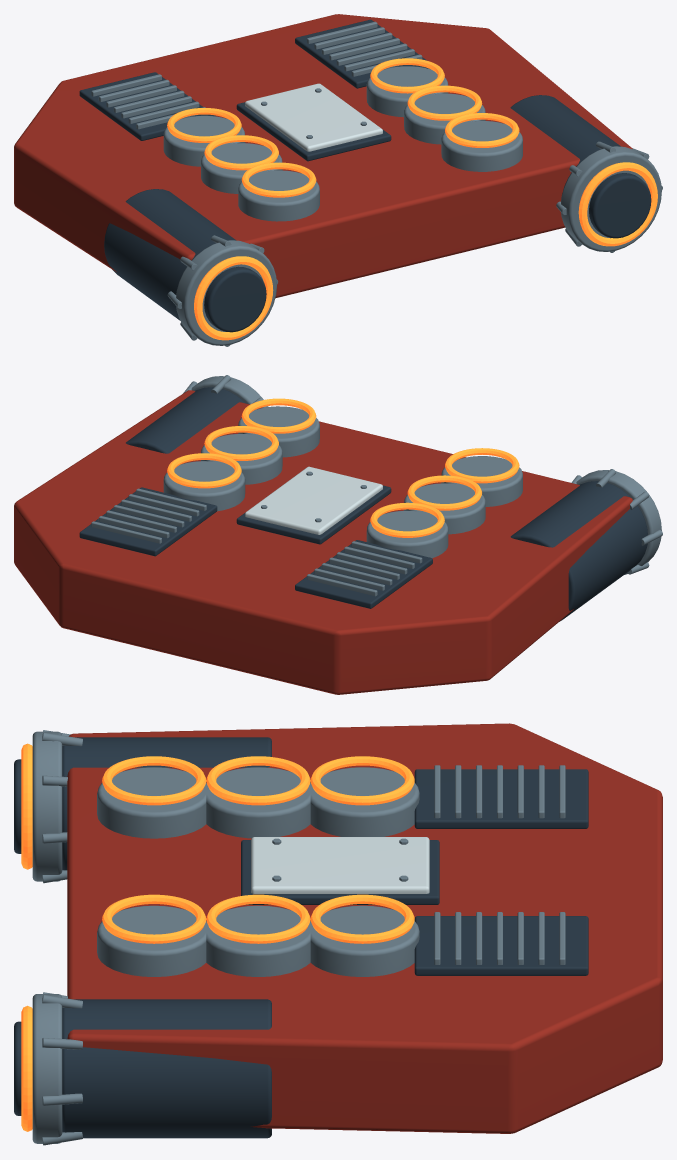
The model's file is MineTender.fbx.
3 renders of one model, top to bottom at view 1: azimuth 30°, elevation 25°; view 2: azimuth 150°, elevation 25°; view 3: azimuth 270°, elevation 25°, orthographic. The views are drawn at different scales.
Parts seen in each view (by area): view 1: Mine tender deck, Engine pressure vessel.004, Service panel.002, Exhaust rim.005, Exhaust rim.004, Dark exhaust throat.004, Dark exhaust throat.005, Engine pressure vessel.005, Mine dispenser, Mine dispenser.003, Mine dispenser.005, Mine dispenser.002 (+23 smaller); view 2: Mine tender deck, Engine pressure vessel.004, Service panel.002, Engine pressure vessel.005, Radiator well.001, Radiator well, Mine dispenser.005, Mine dispenser.002, Mine dispenser, Mine dispenser.003, Mine dispenser.004, Mine dispenser.001 (+23 smaller); view 3: Mine tender deck, Engine pressure vessel.005, Service panel.002, Radiator well.001, Radiator well, Mine dispenser.003, Mine dispenser, Engine pressure vessel.004, Mine dispenser.005, Mine dispenser.002, Mine dispenser.004, Mine dispenser.001 (+13 smaller).
Part boxes in pixels (<box>): Mine tender deck: <box>14,14,632,298</box>; Engine pressure vessel.004: <box>104,189,236,320</box>; Service panel.002: <box>245,83,382,151</box>; Exhaust rim.005: <box>561,146,661,251</box>; Exhaust rim.004: <box>176,240,276,345</box>; Dark exhaust throat.004: <box>204,266,266,332</box>; Dark exhaust throat.005: <box>589,173,651,238</box>; Engine pressure vessel.005: <box>510,95,620,193</box>; Mine dispenser: <box>238,170,319,221</box>; Mine dispenser.003: <box>441,120,522,171</box>; Mine dispenser.005: <box>366,66,448,117</box>; Mine dispenser.002: <box>163,115,245,166</box>; Mine tender deck: <box>14,390,632,694</box>; Engine pressure vessel.004: <box>510,481,647,621</box>; Service panel.002: <box>245,466,382,534</box>; Engine pressure vessel.005: <box>126,387,245,453</box>; Radiator well.001: <box>79,487,217,556</box>; Radiator well: <box>295,540,432,608</box>; Mine dispenser.005: <box>163,461,245,511</box>; Mine dispenser.002: <box>366,510,448,558</box>; Mine dispenser: <box>441,456,522,506</box>; Mine dispenser.003: <box>238,406,319,457</box>; Mine dispenser.004: <box>201,433,282,484</box>; Mine dispenser.001: <box>404,483,485,534</box>; Mine tender deck: <box>67,723,662,1133</box>; Engine pressure vessel.005: <box>62,999,271,1138</box>; Service panel.002: <box>251,837,429,893</box>; Radiator well.001: <box>414,916,588,975</box>; Radiator well: <box>414,769,588,828</box>; Mine dispenser.003: <box>97,905,206,976</box>; Mine dispenser: <box>97,767,206,838</box>; Engine pressure vessel.004: <box>62,737,271,870</box>; Mine dispenser.005: <box>310,905,419,976</box>; Mine dispenser.002: <box>310,767,419,836</box>; Mine dispenser.004: <box>206,905,310,976</box>; Mine dispenser.001: <box>206,767,310,838</box>.
Bounding box in the file's own units: 315 × 73.74 × 261.
